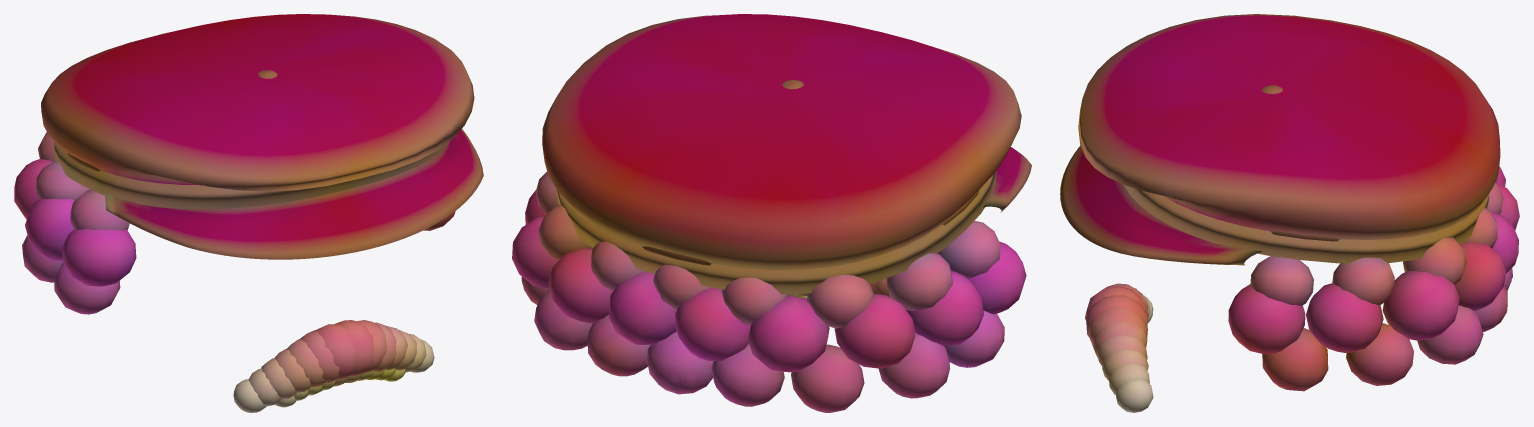
Rendered from ElderlyPassengerLooks.glb.
3 renders of one model, left to right at view 1: azimuth 30°, elevation 25°; view 2: azimuth 150°, elevation 25°; view 3: azimuth 270°, elevation 25°, orthographic. The views are drawn at different scales.
Parts seen in each view (by area): view 1: Look_Opa_Cap, Look_Opa_Hair, Look_Opa_Mustache; view 2: Look_Opa_Cap, Look_Opa_Hair; view 3: Look_Opa_Cap, Look_Opa_Hair, Look_Opa_Mustache.
Part boxes in pixels (bbox=[...]): Look_Opa_Cap: bbox=[41, 14, 483, 259]; Look_Opa_Hair: bbox=[14, 132, 455, 314]; Look_Opa_Mustache: bbox=[233, 320, 434, 412]; Look_Opa_Cap: bbox=[542, 14, 1031, 294]; Look_Opa_Hair: bbox=[512, 171, 1026, 412]; Look_Opa_Cap: bbox=[1060, 14, 1500, 265]; Look_Opa_Hair: bbox=[1228, 166, 1519, 391]; Look_Opa_Mustache: bbox=[1085, 283, 1153, 412].
Bounding box in the file's own units: 0.696 × 0.4417 × 0.6545.
